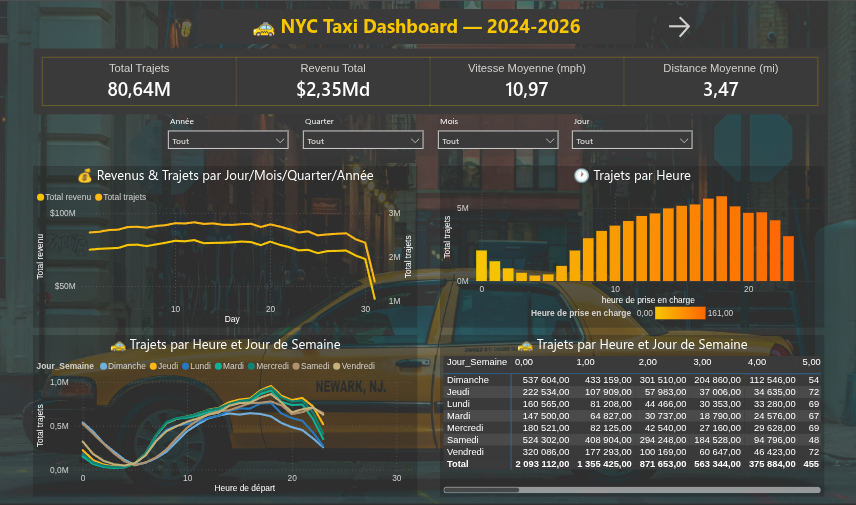

This screenshot's page, from the dashboard's own definition file:
{"tool":"powerbi","page":{"name":"Vue Générale","canvas":[1280,720],"ordinal":0},"visuals":[{"type":"cardVisual","fields":{"Data":["Sum(DAILY_SUMMARY.TOTAL_TRIPS)","Sum(DAILY_SUMMARY.TOTAL_REVENUE)","Avg(DAILY_SUMMARY.AVG_SPEED_MPH)","Avg(DAILY_SUMMARY.AVG_DISTANCE)"]},"box":[67,62.7,1184.9,104.9],"z":0},{"type":"lineChart","title":"💰 Revenus & Trajets par Jour/Mois/Quarter/Année","fields":{"Category":["DAILY_SUMMARY.PICKUP_DATE.Variation.Date Hierarchy.Year","DAILY_SUMMARY.PICKUP_DATE.Variation.Date Hierarchy.Quarter","DAILY_SUMMARY.PICKUP_DATE.Variation.Date Hierarchy.Month","DAILY_SUMMARY.PICKUP_DATE.Variation.Date Hierarchy.Day"],"Y":["Sum(DAILY_SUMMARY.TOTAL_REVENUE)"],"Y2":["Sum(DAILY_SUMMARY.TOTAL_TRIPS)"]},"box":[90.8,235.7,549.2,231.4],"z":1000},{"type":"clusteredColumnChart","title":"🕐 Trajets par Heure","fields":{"Category":["HOURLY_PATTERNS.PICKUP_HOUR"],"Y":["Sum(HOURLY_PATTERNS.TOTAL_TRIPS)"]},"box":[673.5,235.7,549.2,231.4],"z":2000},{"type":"textbox","box":[325,12.1,629.4,50.4],"z":3000},{"type":"slicer","fields":{"Values":["DAILY_SUMMARY.PICKUP_DATE.Variation.Date Hierarchy.Year"]},"box":[274.6,156.8,192.4,64.9],"z":4000},{"type":"slicer","fields":{"Values":["DAILY_SUMMARY.PICKUP_DATE.Variation.Date Hierarchy.Month"]},"box":[659.5,156.8,192.4,64.9],"z":5000},{"type":"slicer","fields":{"Values":["DAILY_SUMMARY.PICKUP_DATE.Variation.Date Hierarchy.Day"]},"box":[851.9,156.8,192.4,64.9],"z":6000},{"type":"slicer","fields":{"Values":["DAILY_SUMMARY.PICKUP_DATE.Variation.Date Hierarchy.Quarter"]},"box":[467,156.8,192.4,64.9],"z":7000},{"type":"lineChart","title":" 🚕 Trajets par Heure et Jour de Semaine","fields":{"Category":["HOURLY_PATTERNS.PICKUP_HOUR"],"Series":["HOURLY_PATTERNS.Jour_Semaine"],"Y":["Sum(HOURLY_PATTERNS.TOTAL_TRIPS)"]},"box":[90.8,476.8,549.2,231.4],"z":8000},{"type":"pivotTable","title":"🚕 Trajets par Heure et Jour de Semaine","fields":{"Columns":["HOURLY_PATTERNS.PICKUP_HOUR"],"Rows":["HOURLY_PATTERNS.Jour_Semaine"],"Values":["Sum(HOURLY_PATTERNS.TOTAL_TRIPS)"]},"box":[673.5,476.8,549.2,231.4],"z":9000},{"type":"actionButton","box":[994.3,17.1,100,40],"z":10000}]}

Visuals, with their boxes on the page's 1280x720 design canvas (x1, y1, x2, y2). These are canvas units, not pixel positions in the 856x505 screenshot, which may show the page scaled, cropped or inside an application window:
cardVisual - Sum(DAILY_SUMMARY.TOTAL_TRIPS) x Sum(DAILY_SUMMARY.TOTAL_REVENUE): Rect(67, 63, 1252, 168)
"💰 Revenus & Trajets par Jour/Mois/Quarter/Année" lineChart: Rect(91, 236, 640, 467)
"🕐 Trajets par Heure" clusteredColumnChart: Rect(674, 236, 1223, 467)
textbox: Rect(325, 12, 954, 62)
slicer - DAILY_SUMMARY.PICKUP_DATE.Variation.Date Hierarchy.Year: Rect(275, 157, 467, 222)
slicer - DAILY_SUMMARY.PICKUP_DATE.Variation.Date Hierarchy.Month: Rect(660, 157, 852, 222)
slicer - DAILY_SUMMARY.PICKUP_DATE.Variation.Date Hierarchy.Day: Rect(852, 157, 1044, 222)
slicer - DAILY_SUMMARY.PICKUP_DATE.Variation.Date Hierarchy.Quarter: Rect(467, 157, 659, 222)
" 🚕 Trajets par Heure et Jour de Semaine" lineChart: Rect(91, 477, 640, 708)
"🚕 Trajets par Heure et Jour de Semaine" pivotTable: Rect(674, 477, 1223, 708)
actionButton: Rect(994, 17, 1094, 57)
